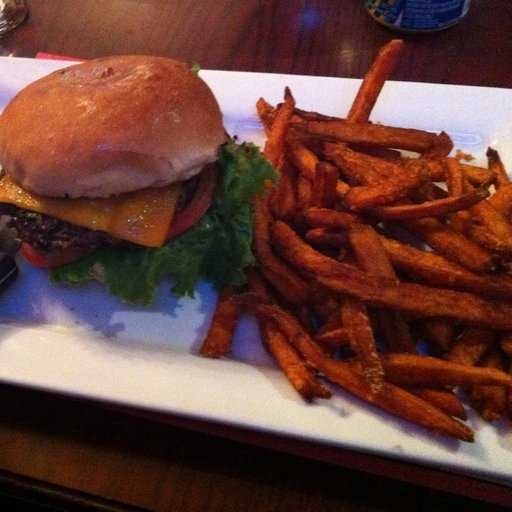hamburger: (3, 49, 253, 284)
